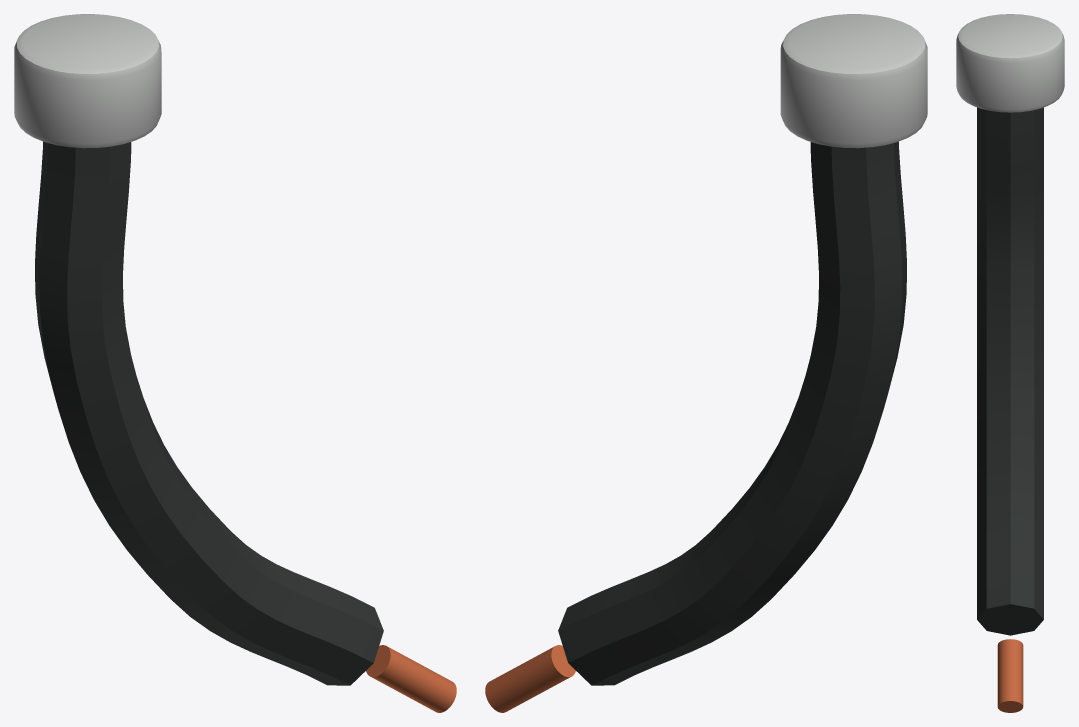
The model's file is mig_welding_gun_swan_neck.glb.
3 views of the same model, side by side, from view 1: azimuth 30°, elevation 25°; view 2: azimuth 150°, elevation 25°; view 3: azimuth 270°, elevation 25° (orthographic). The views are drawn at different scales.
Parts seen in each view (by area): view 1: mig_welding_gun_swan_neck; view 2: mig_welding_gun_swan_neck; view 3: mig_welding_gun_swan_neck.
Part boxes in pixels (x1,y1,x2,y2): mig_welding_gun_swan_neck: (14, 14, 456, 712); mig_welding_gun_swan_neck: (485, 14, 927, 712); mig_welding_gun_swan_neck: (956, 14, 1064, 712).
Bounding box in the file's own units: 0.1142 × 0.1918 × 0.034.
